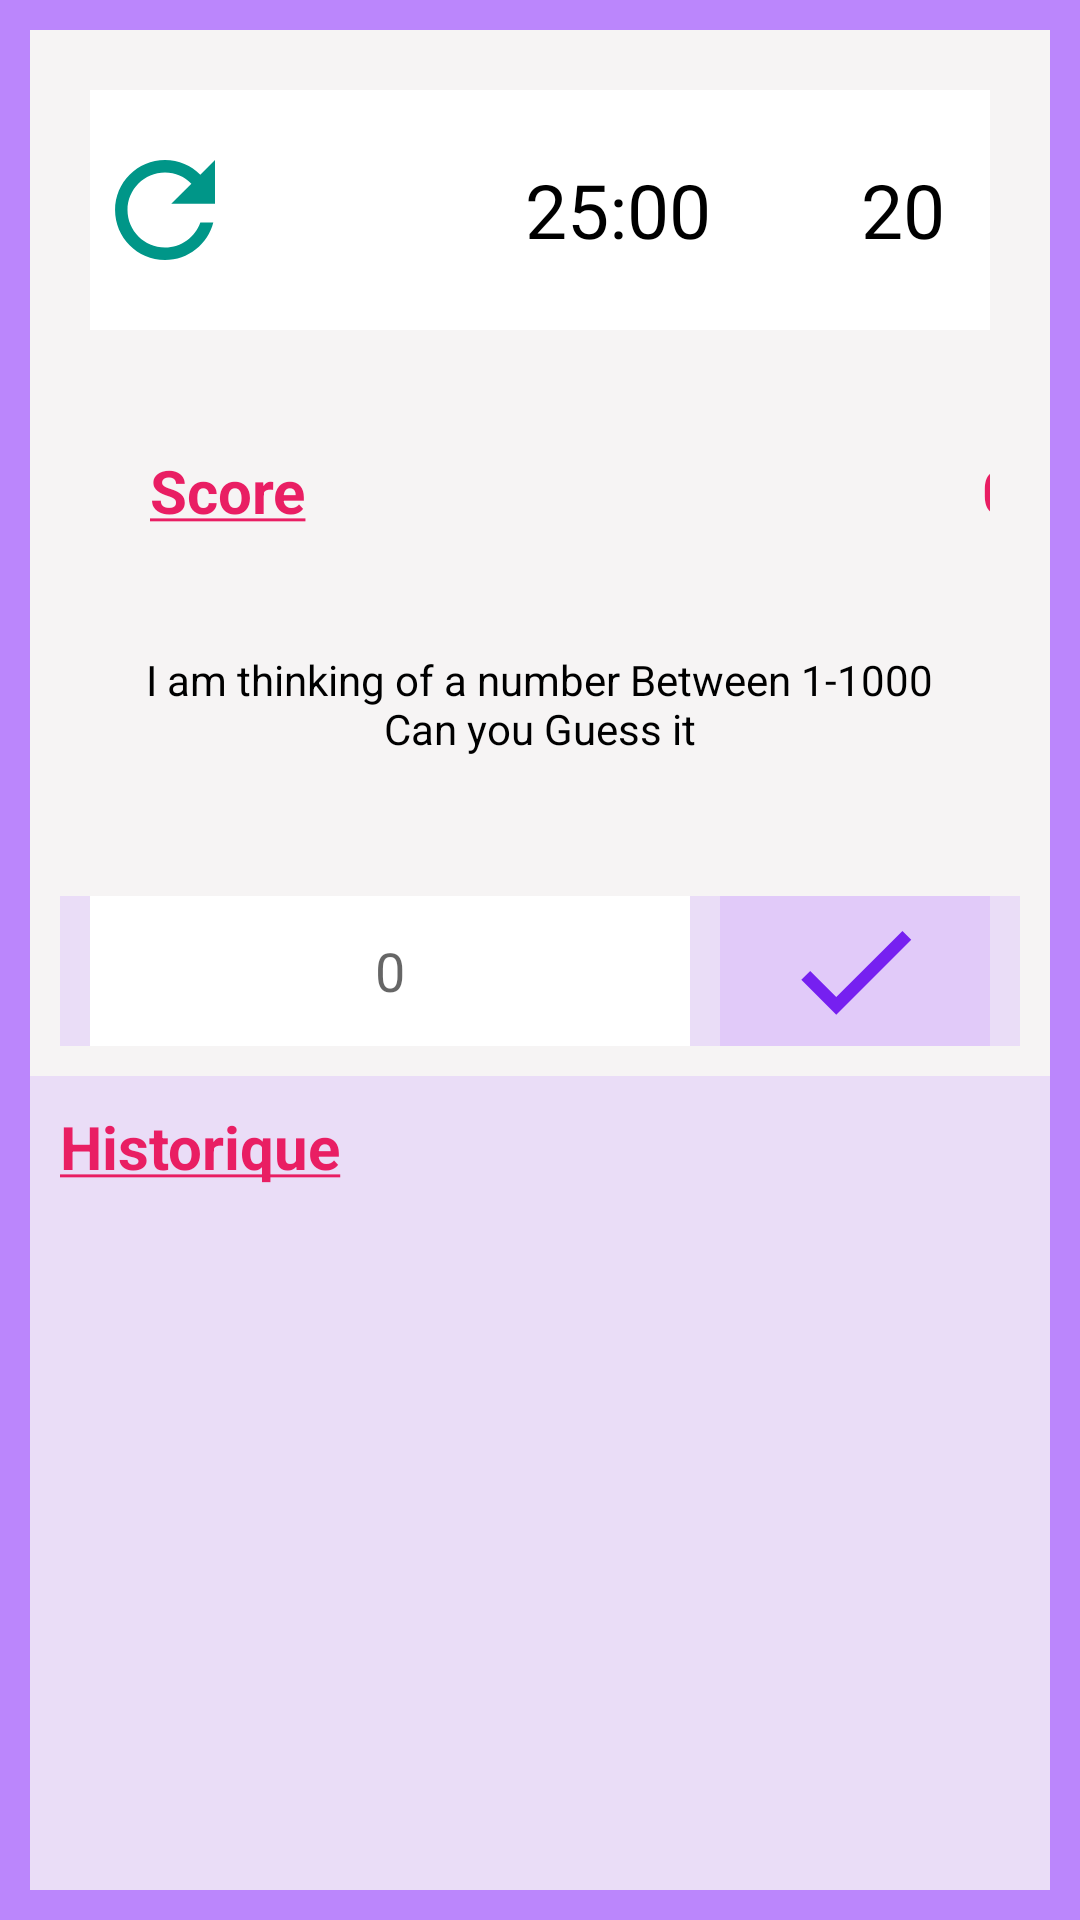

Named icons in this screenshot (1080px×1920px) and their bounding boxes, (x1, y1, x2, y2):
check: (720, 896, 990, 1046)
refresh: (115, 160, 215, 260)
